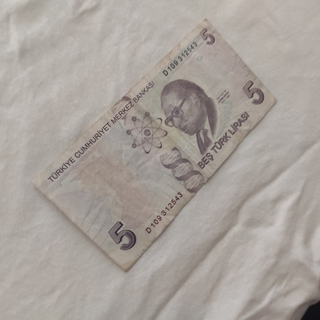5TLBack: (30, 16, 278, 273)
